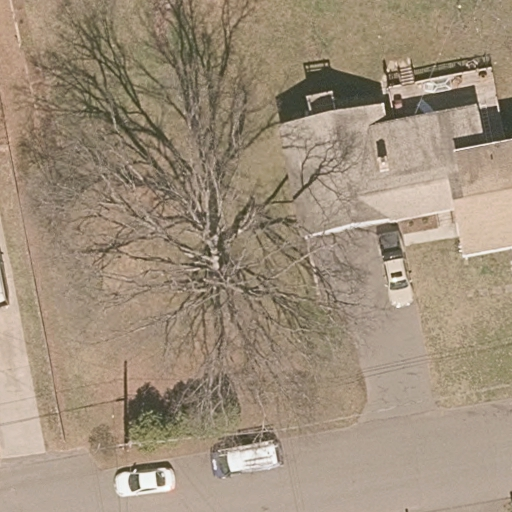DT: (115, 428, 151, 452)
